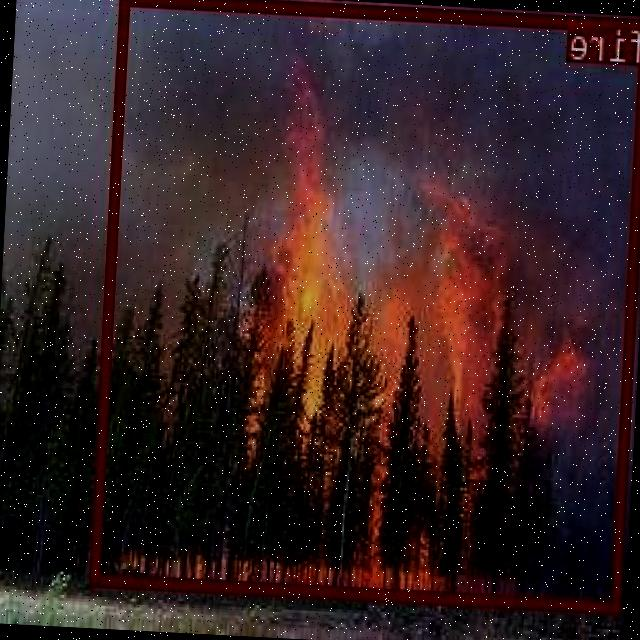fire: (92, 0, 640, 611)
